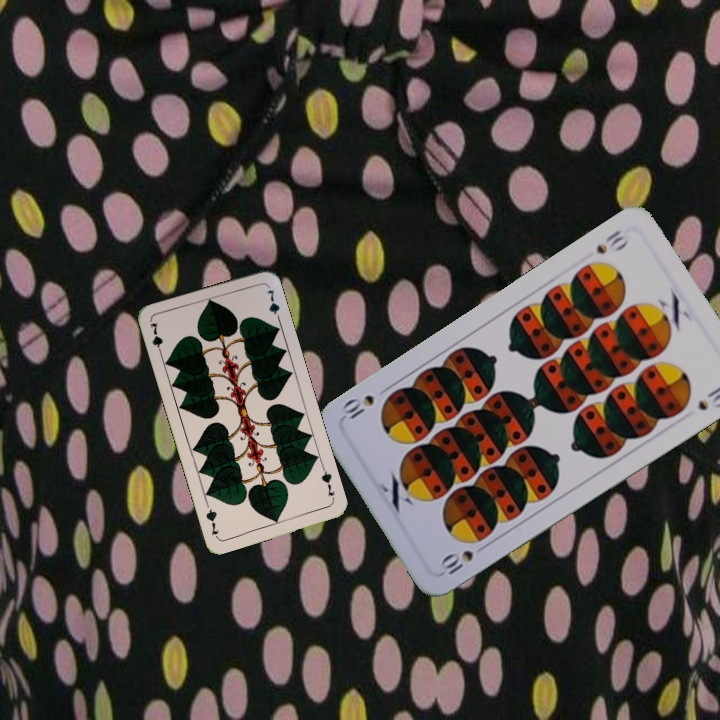G7: (146, 318, 165, 359), (317, 464, 337, 500)
S10: (435, 540, 491, 578), (591, 226, 632, 257)
